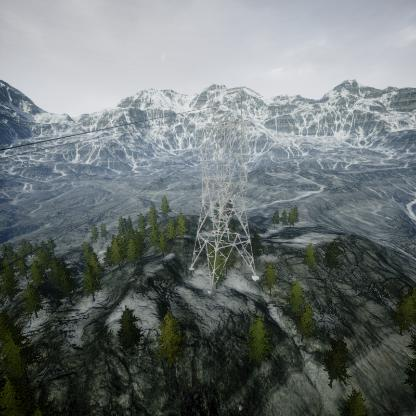tower: (187, 87, 262, 299)
